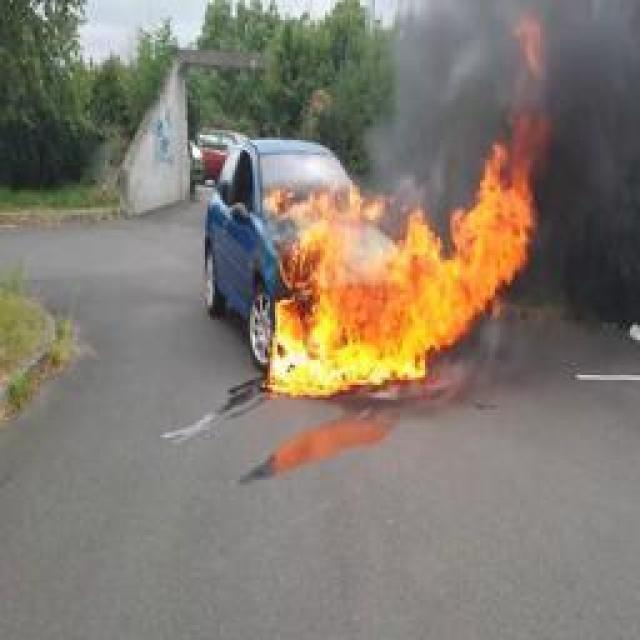Fire: (265, 12, 545, 400)
